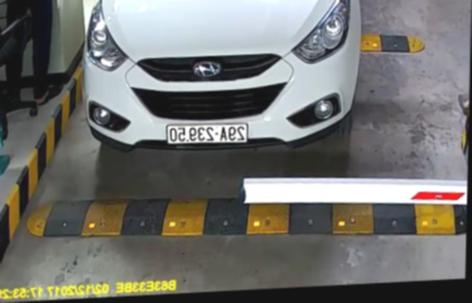License_Plate: (164, 117, 250, 153)
